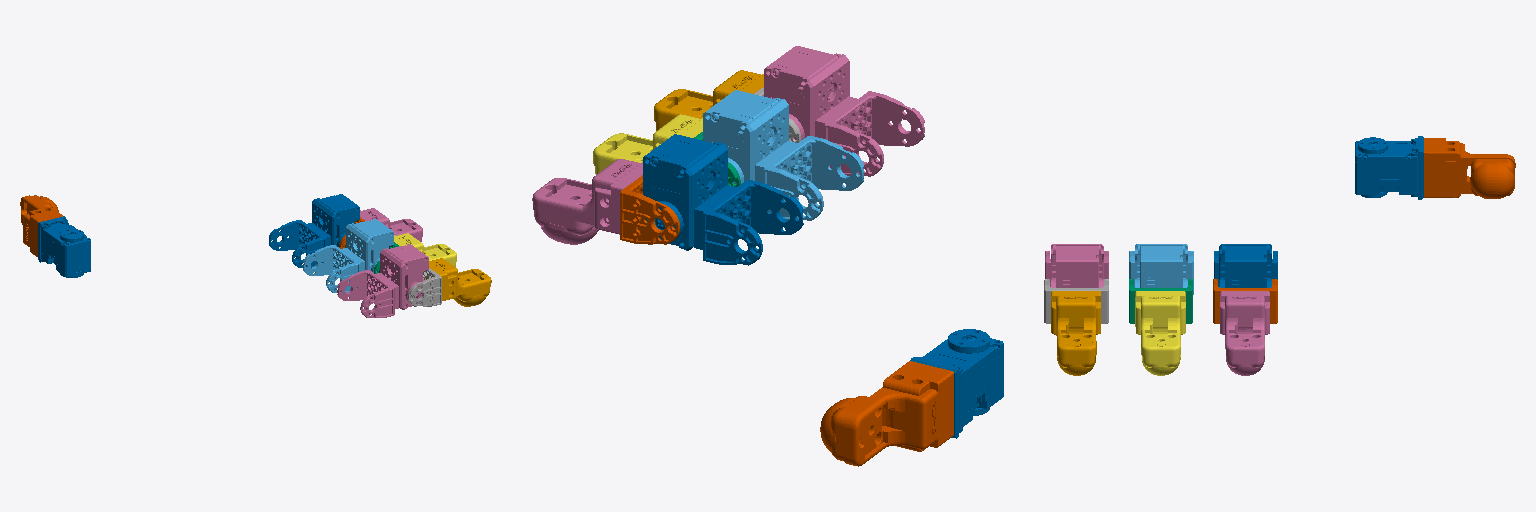
--- Render facts (derived) ---
3 views of the same robot in one strip: view 1: azimuth 30°, elevation 25°; view 2: azimuth 150°, elevation 25°; view 3: azimuth 270°, elevation 25° (orthographic).
Model leap_right with 26 links and 25 joints (16 revolute, 9 fixed), rooted at base, posed all joints at 0.
Links seen in each view (by area): view 1: dip_3, dip_2, dip, thumb_tip_base, fingertip_rf, thumb_fingertip, tip_base_3, fingertip_if, fingertip_mf; view 2: dip, dip_3, dip_2, thumb_fingertip, fingertip_if, thumb_tip_base, tip_base, fingertip_rf, fingertip_mf; view 3: thumb_fingertip, thumb_tip_base, fingertip_mf, fingertip_if, fingertip_rf, dip_2, dip, dip_3, tip_base, tip_base_3, tip_base_2.
Link boxes in pixels (box(x1,y1,x2,y2)): dip_3: box(337, 244, 428, 317); dip_2: box(303, 219, 393, 292); dip: box(269, 194, 359, 267); thumb_tip_base: box(38, 216, 90, 277); fingertip_rf: box(426, 258, 491, 306); thumb_fingertip: box(20, 195, 62, 256); tip_base_3: box(408, 268, 441, 306); fingertip_if: box(360, 208, 422, 241); fingertip_mf: box(394, 233, 456, 266); dip: box(643, 134, 803, 265); dip_3: box(764, 46, 924, 176); dip_2: box(703, 90, 863, 220); thumb_fingertip: box(820, 361, 953, 466); fingertip_if: box(532, 159, 642, 244); thumb_tip_base: box(910, 329, 1003, 438); tip_base: box(620, 175, 679, 244); fingertip_rf: box(654, 70, 763, 130); fingertip_mf: box(593, 114, 702, 174); thumb_fingertip: box(1424, 138, 1515, 198); thumb_tip_base: box(1355, 136, 1423, 199); fingertip_mf: box(1135, 291, 1185, 375); fingertip_if: box(1220, 291, 1269, 375); fingertip_rf: box(1051, 291, 1100, 375); dip_2: box(1129, 244, 1193, 294); dip: box(1214, 244, 1277, 287); dip_3: box(1045, 244, 1108, 287); tip_base: box(1213, 279, 1277, 323); tip_base_3: box(1044, 279, 1108, 323); tip_base_2: box(1129, 279, 1192, 323).
Size in the robot's own frame: 0.2348 by 0.2535 by 0.0489 metres.
Meshes: 10 distinct files referenced, 11 mesh visuals loaded (2 Collada DAE, 3 OBJ); not drawn: 10 (reference not matched to a file when rendering).

URDF robot description (leap_right):
<?xml version="1.0" encoding="utf-8"?>
<robot name="leap_right">
  <link name="base"/>
  <joint name="base_joint" type="fixed">
    <parent link="base"/>
    <child link="palm_lower"/>
    <origin xyz="0.058 0.034 -0.048" rpy="0 0 0"/>
  </joint>

  <link name="palm_lower">
    <visual>
      <origin xyz="-0.0200 0.02575 -0.0347" rpy="0 0 0"/>
      <geometry>
        <!-- <mesh filename="meshes/palm_lower.obj"/> -->
        <mesh filename="meshes/palm_pack.obj"/>
      </geometry>
    </visual>
    <collision>     <!-- palm_lower -->
      <origin xyz="-0.009 0.008 -0.011" rpy="0 0 0"/>
      <geometry>
        <box size="0.022 0.026 0.034"/>
      </geometry>
    </collision>
    <collision>
      <origin xyz="-0.009 -0.037 -0.011" rpy="0 0 0"/>
      <geometry>
        <box size="0.022 0.026 0.034"/>
      </geometry>
    </collision>
    <collision>
      <origin xyz="-0.009 -0.082 -0.011" rpy="0 0 0"/>
      <geometry>
        <box size="0.022 0.026 0.034"/>
      </geometry>
    </collision>
    <collision>
      <origin xyz="-0.066 -0.078 0.0065" rpy="0 0 -0.2967"/>
      <geometry>
        <box size="0.058 0.02 0.082"/>
      </geometry>
    </collision>
    <collision>
      <origin xyz="-0.03 -0.035 0.015" rpy="0 0 0"/>
      <geometry>
        <box size="0.02 0.12 0.066"/>
      </geometry>
    </collision>
    <collision>
      <origin xyz="-0.032 -0.035 -0.024" rpy="0 0.785 0"/>
      <geometry>
        <box size="0.01 0.12 0.02"/>
      </geometry>
    </collision>
    <collision>
      <origin xyz="-0.048 -0.033 0.0065" rpy="0 0 0"/>
      <geometry>
        <box size="0.024 0.116 0.082"/>
      </geometry>
    </collision>
    <collision>
      <origin xyz="-0.078 -0.053 0.0065" rpy="0 0 0"/>
      <geometry>
        <box size="0.044 0.052 0.082"/>
      </geometry>
    </collision>
    <collision>
      <origin xyz="-0.098 -0.009 0.013" rpy="0 0 0"/>
      <geometry>
        <box size="0.004 0.036 0.070"/>
      </geometry>
    </collision>
    <collision>
      <origin xyz="-0.078 -0.003 0.028" rpy="0 0 0"/>
      <geometry>
        <box size="0.044 0.056 0.040"/>
      </geometry>
    </collision>
    <inertial>
      <origin xyz="0 0 0" rpy="0 0 0"/>
      <mass value="0.237"/>
      <inertia ixx="0.000354094" ixy="-0.000001193" ixz="-0.000002445" iyy="0.000260915" iyz="-0.000002905" izz="0.000529257"/>
    </inertial>
  </link>
  <link name="mcp_joint">
    <visual>
      <origin xyz="0.0084 0.0077 0.01465" rpy="0 0 0"/>
      <geometry>
        <mesh filename="meshes/mcp_joint.obj"/>
      </geometry>
    </visual>
    <collision>      <!-- mcp_joint -->
      <origin xyz="0 0.018 0.0147" rpy="0 0 0"/>
      <geometry>
        <box size="0.02 0.006 0.034"/>
      </geometry>
    </collision>
    <collision>
      <origin xyz="-0.027 0.042 0.015" rpy="0 0 0"/>
      <geometry>
        <box size="0.028 0.04 0.02"/>
      </geometry>
    </collision>
    <collision>
      <origin xyz="-0.0262 0.02 0.0146" rpy="0 0 0"/>
      <geometry>
        <box size="0.034 0.006 0.02"/>
      </geometry>
    </collision>
    <collision>
      <origin xyz="-0.0295 0.035 0.029" rpy="0 0 0"/>
      <geometry>
        <box size="0.02 0.024 0.008"/>
      </geometry>
    </collision>
    <collision>
      <origin xyz="0 0.005 0.03" rpy="0 0 0"/>
      <geometry>
        <box size="0.014 0.02 0.004"/>
      </geometry>
    </collision>
    <collision>
      <origin xyz="0 0.005 -0.001" rpy="0 0 0"/>
      <geometry>
        <box size="0.014 0.02 0.004"/>
      </geometry>
    </collision>
    <inertial>
      <origin xyz="0 0 0" rpy="0 0 0"/>
      <mass value="0.044"/>
      <inertia ixx="0.000011499" ixy="0.000003049" ixz="0.000000121" iyy="0.000007796" iyz="0.000000112" izz="0.000014759"/>
    </inertial>
  </link>
  <link name="pip">
    <visual>
      <origin xyz="0.0096 0.0002 0.0007" rpy="-1.57079 -1.57079 0"/>
      <geometry>
        <mesh filename="meshes/pip.obj"/>
      </geometry>
    </visual>
    <collision>     <!-- pip -->
      <origin xyz="0.0075 -0.0002 -0.011" rpy="0 0 0"/>
      <geometry>
        <box size="0.034 0.026 0.022"/>
      </geometry>
    </collision>
    <inertial>
      <origin xyz="0 0 0" rpy="0 0 0"/>
      <mass value="0.032"/>
      <inertia ixx="0.000004798" ixy="0.000000012" ixz="0.000000004" iyy="0.000002862" iyz="0.000000011" izz="0.000004234"/>
    </inertial>
  </link>
  <link name="dip">
    <visual>
      <origin xyz="0.0211 -0.0084 0.0097" rpy="-3.1415926 0 0"/>
      <geometry>
        <mesh filename="meshes/dip.obj"/>
      </geometry>
    </visual>
    <collision>     <!-- dip -->
      <origin xyz="0 -0.02 0.015" rpy="0 0 0"/>
      <geometry>
        <box size="0.016 0.006 0.026"/>
      </geometry>
    </collision>
    <collision>
      <origin xyz="0 -0.016 0.015" rpy="0 0 0"/>
      <geometry>
        <box size="0.02 0.004 0.034"/>
      </geometry>
    </collision>
    <collision>
      <origin xyz="0 -0.0045 0.03" rpy="0 0 0"/>
      <geometry>
        <box size="0.014 0.02 0.004"/>
      </geometry>
    </collision>
    <collision>
      <origin xyz="0 -0.0045 0" rpy="0 0 0"/>
      <geometry>
        <box size="0.014 0.02 0.004"/>
      </geometry>
    </collision>
    <collision>
      <origin xyz="0.0075 -0.035 0.015" rpy="0 0 0"/>
      <geometry>
        <box size="0.034 0.022 0.026"/>
      </geometry>
    </collision>
    <inertial>
      <origin xyz="0 0 0" rpy="0 0 0"/>
      <mass value="0.037"/>
      <inertia ixx="0.000005542" ixy="-0.000000607" ixz="-0.000000017" iyy="0.000005727" iyz="-0.000000023" izz="0.000006682"/>
    </inertial>
  </link>
  <link name="tip_base">
    <visual>
        <origin xyz="0 -0.014 0.014499" rpy="3.14159 0 0 " />
        <geometry>
            <mesh filename="./meshes/tip_base.obj"/>
        </geometry>
    </visual>
    <collision> 
      <origin xyz="0 -0.017 0.015" rpy="0 0 0"/>
      <geometry>
        <box size="0.02 0.006 0.03"/>
      </geometry>
    </collision>
    <collision>
      <origin xyz="0 -0.006 0.03" rpy="0 0 0"/>
      <geometry>
        <box size="0.014 0.022 0.004"/>
      </geometry>
    </collision>
    <collision>
      <origin xyz="0 -0.006 -0.001" rpy="0 0 0"/>
      <geometry>
        <box size="0.014 0.022 0.004"/>
      </geometry>
    </collision>
    <inertial>
        <origin xyz="0 0 0" rpy="0 0 0"/>
        <mass value="0.008" />
        <inertia ixx="0.000003368" ixy="0.000000115" ixz="0" iyy="0.000001556" iyz="0" izz="0.000002863" />
    </inertial>
  </link>
  <link name="fingertip_if">
      <visual>
          <origin xyz="0 0 0" rpy="3.14159 0 -1.57080" />
          <geometry>
              <mesh filename="./meshes/DotTip.dae"/>
          </geometry>
      </visual>
      <collision>
          <origin xyz="0 0 0" rpy="3.14159 0 -1.57080" />
          <geometry>
              <mesh filename="./meshes/DotTip.dae"/>
          </geometry>
      </collision>
      <inertial>
          <origin xyz="0 0 0" rpy="0 0 0"/>
          <mass value="0.016" />
          <inertia ixx="0.000003368" ixy="0.000000115" ixz="0" iyy="0.000001556" iyz="0" izz="0.000002863" />
      </inertial>
  </link>

  <joint name="j00" type="revolute">
    <origin xyz="-0.0122 0.03810 0.01450" rpy="-1.57079 0 1.57079"/>
    <parent link="mcp_joint"/>
    <child link="pip"/>
    <axis xyz="0 0 -1"/>
    <limit effort="0.95" velocity="8.48" lower="-1.047" upper="1.047"/>
    <joint_properties friction="0.0"/>
  </joint>
  <joint name="j01" type="revolute">
    <origin xyz="-0.0070 0.0230 -0.0187" rpy="1.57079 1.57079 0"/>
    <parent link="palm_lower"/>
    <child link="mcp_joint"/>
    <axis xyz="0 0 -1"/>
    <limit effort="0.95" velocity="8.48" lower="-0.314" upper="2.23"/>
    <joint_properties friction="0.0"/>
  </joint>
  <joint name="j02" type="revolute">
    <origin xyz="0.015 0.0143 -0.013" rpy="1.57079 -1.57079 0"/>
    <parent link="pip"/>
    <child link="dip"/>
    <axis xyz="0 0 -1"/>
    <limit effort="0.95" velocity="8.48" lower="-0.506" upper="1.885"/>
    <joint_properties friction="0.0"/>
  </joint>
  <joint name="j03" type="revolute">
    <origin xyz="0 -0.0361 0.0002" rpy="0 0 0"/>
    <parent link="dip"/>
    <child link="tip_base"/>
    <axis xyz="0 0 -1"/>
    <limit effort="0.95" velocity="8.48" lower="-0.366" upper="2.042"/>
    <joint_properties friction="0.0"/>
  </joint>
  <joint name="if_tip" type="fixed" dont_collapse="true">
    <origin xyz="-0.010 -0.048 0.014499" rpy="0 0 0 " />
    <parent link="tip_base" />
    <child link="fingertip_if" />
  </joint>


  <link name="mcp_joint_2">
    <visual>
      <origin xyz="0.0084 0.0077 0.01465" rpy="0 0 0"/>
      <geometry>
        <mesh filename="meshes/mcp_joint.obj"/>
      </geometry>
    </visual>
    <collision>      <!-- mcp_joint -->
      <origin xyz="0 0.018 0.0147" rpy="0 0 0"/>
      <geometry>
        <box size="0.02 0.006 0.034"/>
      </geometry>
    </collision>
    <collision>
      <origin xyz="-0.027 0.042 0.015" rpy="0 0 0"/>
      <geometry>
        <box size="0.028 0.04 0.02"/>
      </geometry>
    </collision>
    <collision>
      <origin xyz="-0.0262 0.02 0.0146" rpy="0 0 0"/>
      <geometry>
        <box size="0.034 0.006 0.02"/>
      </geometry>
    </collision>
    <collision>
      <origin xyz="-0.0295 0.035 0.029" rpy="0 0 0"/>
      <geometry>
        <box size="0.02 0.024 0.008"/>
      </geometry>
    </collision>
    <collision>
      <origin xyz="0 0.005 0.03" rpy="0 0 0"/>
      <geometry>
        <box size="0.014 0.02 0.004"/>
      </geometry>
    </collision>
    <collision>
      <origin xyz="0 0.005 -0.001" rpy="0 0 0"/>
      <geometry>
        <box size="0.014 0.02 0.004"/>
      </geometry>
    </collision>
    <inertial>
      <origin xyz="0 0 0" rpy="0 0 0"/>
      <mass value="0.044"/>
      <inertia ixx="0.000011499" ixy="0.000003049" ixz="0.000000121" iyy="0.000007796" iyz="0.000000112" izz="0.000014759"/>
    </inertial>
  </link>
  <link name="pip_2">
    <visual>
      <origin xyz="0.0096 0.0003 0.0007" rpy="-1.57079 -1.57079 0"/>
      <geometry>
        <mesh filename="meshes/pip.obj"/>
      </geometry>
    </visual>
    <collision>     <!-- pip -->
      <origin xyz="0.0075 -0.0002 -0.011" rpy="0 0 0"/>
      <geometry>
        <box size="0.034 0.026 0.022"/>
      </geometry>
    </collision>
    <inertial>
      <origin xyz="0 0 0" rpy="0 0 0"/>
      <mass value="0.032"/>
      <inertia ixx="0.000004798" ixy="0.000000012" ixz="0.000000004" iyy="0.000002862" iyz="0.000000011" izz="0.000004234"/>
    </inertial>
  </link>
  <link name="dip_2">
    <visual>
      <origin xyz="0.0211 -0.0084 0.0097" rpy="-3.14159 0 0"/>
      <geometry>
        <mesh filename="meshes/dip.obj"/>
      </geometry>
    </visual>
    <collision>     <!-- dip -->
      <origin xyz="0 -0.02 0.015" rpy="0 0 0"/>
      <geometry>
        <box size="0.016 0.006 0.026"/>
      </geometry>
    </collision>
    <collision>
      <origin xyz="0 -0.016 0.015" rpy="0 0 0"/>
      <geometry>
        <box size="0.02 0.004 0.034"/>
      </geometry>
    </collision>
    <collision>
      <origin xyz="0 -0.0045 0.03" rpy="0 0 0"/>
      <geometry>
        <box size="0.014 0.02 0.004"/>
      </geometry>
    </collision>
    <collision>
      <origin xyz="0 -0.0045 0" rpy="0 0 0"/>
      <geometry>
        <box size="0.014 0.02 0.004"/>
      </geometry>
    </collision>
    <collision>
      <origin xyz="0.0075 -0.035 0.015" rpy="0 0 0"/>
      <geometry>
        <box size="0.034 0.022 0.026"/>
      </geometry>
    </collision>
    <inertial>
      <origin xyz="0 0 0" rpy="0 0 0"/>
      <mass value="0.037"/>
      <inertia ixx="0.000005542" ixy="-0.000000607" ixz="-0.000000017" iyy="0.000005727" iyz="-0.000000023" izz="0.000006682"/>
    </inertial>
  </link>

  <link name="tip_base_2">
    <visual>
        <origin xyz="0 -0.014 0.014499" rpy="3.14159 0 0 " />
        <geometry>
            <mesh filename="./meshes/tip_base.obj"/>
        </geometry>
    </visual>
    <collision> 
      <origin xyz="0 -0.017 0.015" rpy="0 0 0"/>
      <geometry>
        <box size="0.02 0.006 0.03"/>
      </geometry>
    </collision>
    <collision>
      <origin xyz="0 -0.006 0.03" rpy="0 0 0"/>
      <geometry>
        <box size="0.014 0.022 0.004"/>
      </geometry>
    </collision>
    <collision>
      <origin xyz="0 -0.006 -0.001" rpy="0 0 0"/>
      <geometry>
        <box size="0.014 0.022 0.004"/>
      </geometry>
    </collision>
    <inertial>
        <origin xyz="0 0 0" rpy="0 0 0"/>
        <mass value="0.008" />
        <inertia ixx="0.000003368" ixy="0.000000115" ixz="0" iyy="0.000001556" iyz="0" izz="0.000002863" />
    </inertial>
  </link>
  <link name="fingertip_mf">
      <visual>
          <origin xyz="0 0 0" rpy="3.14159 0 -1.57080" />
          <geometry>
              <mesh filename="./meshes/DotTip.dae"/>
          </geometry>
      </visual>
      <collision>
          <origin xyz="0 0 0" rpy="3.14159 0 -1.57080" />
          <geometry>
              <mesh filename="./meshes/DotTip.dae"/>
          </geometry>
      </collision>
      <inertial>
          <origin xyz="0 0 0" rpy="0 0 0"/>
          <mass value="0.016" />
          <inertia ixx="0.000003368" ixy="0.000000115" ixz="0" iyy="0.000001556" iyz="0" izz="0.000002863" />
      </inertial>
  </link>

  <joint name="j04" type="revolute">
    <origin xyz="-0.0122 0.0381 0.0145" rpy="-1.57079 0 1.57079"/>
    <parent link="mcp_joint_2"/>
    <child link="pip_2"/>
    <axis xyz="0 0 -1"/>
    <limit effort="0.95" velocity="8.48" lower="-1.047" upper="1.047"/>
    <joint_properties friction="0.0"/>
  </joint>
  <joint name="j05" type="revolute">
    <origin xyz="-0.0071 -0.0224 -0.0187" rpy="1.57079 1.57079 0"/>
    <parent link="palm_lower"/>
    <child link="mcp_joint_2"/>
    <axis xyz="0 0 -1"/>
    <limit effort="0.95" velocity="8.48" lower="-0.314" upper="2.23"/>
    <joint_properties friction="0.0"/>
  </joint>
  <joint name="j06" type="revolute">
    <origin xyz="0.015 0.0143 -0.013" rpy="1.57079 -1.57079 0"/>
    <parent link="pip_2"/>
    <child link="dip_2"/>
    <axis xyz="0 0 -1"/>
    <limit effort="0.95" velocity="8.48" lower="-0.506" upper="1.885"/>
    <joint_properties friction="0.0"/>
  </joint>
  <joint name="j07" type="revolute">
    <origin xyz="0 -0.0361 0.0002" rpy="0 0 0"/>
    <parent link="dip_2"/>
    <child link="tip_base_2"/>
    <axis xyz="0 0 -1"/>
    <limit effort="0.95" velocity="8.48" lower="-0.366" upper="2.042"/>
    <joint_properties friction="0.0"/>
  </joint>
  <joint name="mf_tip" type="fixed" dont_collapse="true">
    <origin xyz="-0.010 -0.048 0.014499" rpy="0 0 0 " />
    <parent link="tip_base_2" />
    <child link="fingertip_mf" />
  </joint>
  <link name="mcp_joint_3">
    <visual>
      <origin xyz="0.0084 0.0077 0.01465" rpy="0 0 0"/>
      <geometry>
        <mesh filename="meshes/mcp_joint.obj"/>
      </geometry>
    </visual>
    <collision>      <!-- mcp_joint -->
      <origin xyz="0 0.018 0.0147" rpy="0 0 0"/>
      <geometry>
        <box size="0.02 0.006 0.034"/>
      </geometry>
    </collision>
    <collision>
      <origin xyz="-0.027 0.042 0.015" rpy="0 0 0"/>
      <geometry>
        <box size="0.028 0.04 0.02"/>
      </geometry>
    </collision>
    <collision>
      <origin xyz="-0.0262 0.02 0.0146" rpy="0 0 0"/>
      <geometry>
        <box size="0.034 0.006 0.02"/>
      </geometry>
    </collision>
    <collision>
      <origin xyz="-0.0295 0.035 0.029" rpy="0 0 0"/>
      <geometry>
        <box size="0.02 0.024 0.008"/>
      </geometry>
    </collision>
    <collision>
      <origin xyz="0 0.005 0.03" rpy="0 0 0"/>
      <geometry>
        <box size="0.014 0.02 0.004"/>
      </geometry>
    </collision>
    <collision>
      <origin xyz="0 0.005 -0.001" rpy="0 0 0"/>
      <geometry>
        <box size="0.014 0.02 0.004"/>
      </geometry>
    </collision>
    <inertial>
      <origin xyz="0 0 0" rpy="0 0 0"/>
      <mass value="0.044"/>
      <inertia ixx="0.000011499" ixy="0.000003049" ixz="0.000000121" iyy="0.000007796" iyz="0.000000112" izz="0.000014759"/>
    </inertial>
  </link>
  <link name="pip_3">
    <visual>
      <origin xyz="0.0096 0.0003 0.0007" rpy="-1.57079 -1.57079 0"/>
      <geometry>
        <mesh filename="meshes/pip.obj"/>
      </geometry>
    </visual>
    <collision>     <!-- pip -->
      <origin xyz="0.0075 -0.0002 -0.011" rpy="0 0 0"/>
      <geometry>
        <box size="0.034 0.026 0.022"/>
      </geometry>
    </collision>
    <inertial>
      <origin xyz="0 0 0" rpy="0 0 0"/>
      <mass value="0.032"/>
      <inertia ixx="0.000004798" ixy="0.000000012" ixz="0.000000004" iyy="0.000002862" iyz="0.000000011" izz="0.000004234"/>
    </inertial>
  </link>
  <link name="dip_3">
    <visual>
      <origin xyz="0.0211 -0.0084 0.0097" rpy="-3.14159 0 0"/>
      <geometry>
        <mesh filename="meshes/dip.obj"/>
      </geometry>
    </visual>
    <collision>     <!-- dip -->
      <origin xyz="0 -0.02 0.015" rpy="0 0 0"/>
      <geometry>
        <box size="0.016 0.006 0.026"/>
      </geometry>
    </collision>
    <collision>
      <origin xyz="0 -0.016 0.015" rpy="0 0 0"/>
      <geometry>
        <box size="0.02 0.004 0.034"/>
      </geometry>
    </collision>
    <collision>
      <origin xyz="0 -0.0045 0.03" rpy="0 0 0"/>
      <geometry>
        <box size="0.014 0.02 0.004"/>
      </geometry>
    </collision>
    <collision>
      <origin xyz="0 -0.0045 0" rpy="0 0 0"/>
      <geometry>
        <box size="0.014 0.02 0.004"/>
      </geometry>
    </collision>
    <collision>
      <origin xyz="0.0075 -0.035 0.015" rpy="0 0 0"/>
      <geometry>
        <box size="0.034 0.022 0.026"/>
      </geometry>
    </collision>
    <inertial>
      <origin xyz="0 0 0" rpy="0 0 0"/>
      <mass value="0.037"/>
      <inertia ixx="0.000005542" ixy="-0.000000607" ixz="-0.000000017" iyy="0.000005727" iyz="-0.000000023" izz="0.000006682"/>
    </inertial>
  </link>
  <link name="tip_base_3">
    <visual>
        <origin xyz="0 -0.014 0.014499" rpy="3.14159 0 0 " />
        <geometry>
            <mesh filename="./meshes/tip_base.obj"/>
        </geometry>
    </visual>
    <collision> 
      <origin xyz="0 -0.017 0.015" rpy="0 0 0"/>
      <geometry>
        <box size="0.02 0.006 0.03"/>
      </geometry>
    </collision>
    <collision>
      <origin xyz="0 -0.006 0.03" rpy="0 0 0"/>
      <geometry>
        <box size="0.014 0.022 0.004"/>
      </geometry>
    </collision>
    <collision>
      <origin xyz="0 -0.006 -0.001" rpy="0 0 0"/>
      <geometry>
        <box size="0.014 0.022 0.004"/>
      </geometry>
    </collision>
    <inertial>
        <origin xyz="0 0 0" rpy="0 0 0"/>
        <mass value="0.008" />
        <inertia ixx="0.000003368" ixy="0.000000115" ixz="0" iyy="0.000001556" iyz="0" izz="0.000002863" />
    </inertial>
  </link>
  <link name="fingertip_rf">
      <visual>
          <origin xyz="0 0 0" rpy="3.14159 0 -1.57080" />
          <geometry>
              <mesh filename="./meshes/DotTip.dae"/>
          </geometry>
      </visual>
      <collision>
          <origin xyz="0 0 0" rpy="3.14159 0 -1.57080" />
          <geometry>
              <mesh filename="./meshes/DotTip.dae"/>
          </geometry>
      </collision>
      <inertial>
          <origin xyz="0 0 0" rpy="0 0 0"/>
          <mass value="0.016" />
          <inertia ixx="0.000003368" ixy="0.000000115" ixz="0" iyy="0.000001556" iyz="0" izz="0.000002863" />
      </inertial>
  </link>
  <joint name="j08" type="revolute">
    <origin xyz="-0.0122 0.0381 0.0145" rpy="-1.57079 0 1.57079"/>
    <parent link="mcp_joint_3"/>
    <child link="pip_3"/>
    <axis xyz="0 0 -1"/>
    <limit effort="0.95" velocity="8.48" lower="-1.047" upper="1.047"/>
    <joint_properties friction="0.0"/>
  </joint>
  <joint name="j09" type="revolute">
    <origin xyz="-0.00709 -0.0678 -0.0187" rpy="1.57079 1.57079 0"/>
    <parent link="palm_lower"/>
    <child link="mcp_joint_3"/>
    <axis xyz="0 0 -1"/>
    <limit effort="0.95" velocity="8.48" lower="-0.314" upper="2.23"/>
    <joint_properties friction="0.0"/>
  </joint>
  <joint name="j10" type="revolute">
    <origin xyz="0.015 0.0143 -0.013" rpy="1.57079 -1.57079 0"/>
    <parent link="pip_3"/>
    <child link="dip_3"/>
    <axis xyz="0 0 -1"/>
    <limit effort="0.95" velocity="8.48" lower="-0.506" upper="1.885"/>
    <joint_properties friction="0.0"/>
  </joint>
  <joint name="j11" type="revolute">
    <origin xyz="0 -0.03609 0.0002" rpy="0 0 0"/>
    <parent link="dip_3"/>
    <child link="tip_base_3"/>
    <axis xyz="0 0 -1"/>
    <limit effort="0.95" velocity="8.48" lower="-0.366" upper="2.042"/>
    <joint_properties friction="0.0"/>
  </joint>
  <joint name="rf_tip" type="fixed" dont_collapse="true">
    <origin xyz="-0.010 -0.048 0.014499" rpy="0 0 0 " />
    <parent link="tip_base_3" />
    <child link="fingertip_rf" />
  </joint>


  <link name="thumb_temp_base">
    <visual>
      <origin xyz="-0.0053 0.0003 0.00078" rpy="-1.57079 -1.57079 0"/>
      <geometry>
        <mesh filename="meshes/pip.obj"/>
      </geometry>
    </visual>
    <collision>     <!-- pip -->
      <origin xyz="-0.0075 -0.0002 -0.011" rpy="0 0 0"/>
      <geometry>
        <box size="0.034 0.026 0.022"/>
      </geometry>
    </collision>
    <inertial>
      <origin xyz="0 0 0" rpy="0 0 0"/>
      <mass value="0.032"/>
      <inertia ixx="0.000004798" ixy="0.000000012" ixz="0.000000004" iyy="0.000002862" iyz="0.000000011" izz="0.000004234"/>
    </inertial>
  </link>
  <link name="thumb_pip">
    <visual>
      <origin xyz="0.01196 0 -0.0158" rpy="1.57079 0 0"/>
      <geometry>
        <mesh filename="meshes/thumb_pip.obj"/>
      </geometry>
    </visual>
    <collision>     <!-- thumb_pip -->
      <origin xyz="0 0 -0.0015" rpy="0 0 0"/>
      <geometry>
        <box size="0.018 0.033 0.004"/>
      </geometry>
    </collision>
    <collision>
      <origin xyz="0 -0.015 -0.013" rpy="0 0 0"/>
      <geometry>
        <box size="0.014 0.004 0.02"/>
      </geometry>
    </collision>
    <collision>
      <origin xyz="0 0.015 -0.013" rpy="0 0 0"/>
      <geometry>
        <box size="0.014 0.004 0.02"/>
      </geometry>
    </collision>
    <inertial>
      <origin xyz="0 0 0" rpy="0 0 0"/>
      <mass value="0.003"/>
      <inertia ixx="0.000000593" ixy="0" ixz="0" iyy="0.000000549" iyz="0" izz="0.000000224"/>
    </inertial>
  </link>
  <link name="thumb_dip">
    <visual>
      <origin xyz="0.0439 0.0579 -0.0086" rpy="0 0 0"/>
      <geometry>
        <mesh filename="meshes/thumb_dip.obj"/>
      </geometry>
    </visual>
    <collision>     <!-- thumb_dip -->
      <origin xyz="0 0.0105 -0.014" rpy="0 0 0"/>
      <geometry>
        <box size="0.02 0.04 0.024"/>
      </geometry>
    </collision>
    <collision>
      <origin xyz="0 0.031 -0.015" rpy="0 0 0"/>
      <geometry>
        <box size="0.02 0.004 0.032"/>
      </geometry>
    </collision>
    <collision>
      <origin xyz="0 0.042 0.001" rpy="0 0 0"/>
      <geometry>
        <box size="0.014 0.02 0.004"/>
      </geometry>
    </collision>
    <collision>
      <origin xyz="0 0.042 -0.029" rpy="0 0 0"/>
      <geometry>
        <box size="0.014 0.02 0.004"/>
      </geometry>
    </collision>
    <collision>
      <origin xyz="-0.0135 0.0175 -0.011656" rpy="0 0 0"/>
      <geometry>
        <box size="0.01 0.024 0.018"/>
      </geometry>
    </collision>
    <inertial>
      <origin xyz="0 0 0" rpy="0 0 0"/>
      <mass value="0.038"/>
      <inertia ixx="0.000008474" ixy="0.000000241" ixz="0.000000026" iyy="0.000003841" iyz="0.000000025" izz="0.000007679"/>
    </inertial>
  </link>

  <link name="thumb_tip_base">
    <visual>
      <origin xyz="0 0 -0.0065" rpy="0 0 0 " />
      <geometry>
          <mesh filename="./meshes/thumb_tip_base.obj"/>
      </geometry>
    </visual>
    <collision>   
      <origin xyz="0 -0.0085 -0.015" rpy="0 0 0"/>
      <geometry>
        <box size="0.02 0.036 0.024"/>
      </geometry>
    </collision>
    <collision>
      <origin xyz="0 -0.029 -0.014" rpy="0 0 0"/>
      <geometry>
        <box size="0.02 0.004 0.03"/>
      </geometry>
    </collision>
    <collision>
      <origin xyz="0.015 -0.0175 -0.0115" rpy="0 0 0"/>
      <geometry>
        <box size="0.008 0.024 0.018"/>
      </geometry>
    </collision>
    <inertial>
        <origin xyz="0 0 0" rpy="0 0 0"/>
        <mass value="0.008" />
        <inertia ixx="0.000003368" ixy="0.000000115" ixz="0" iyy="0.000001556" iyz="0" izz="0.000002863" />
    </inertial>
  </link>
  <link name="thumb_fingertip">
      <visual>
          <origin xyz="0 0 0 " rpy="3.14159 0 -1.57080" />
          <geometry>
              <mesh filename="./meshes/DotTip-thumb.dae"/>
          </geometry>
      </visual>
      <collision>
          <origin xyz="0 0 0 " rpy="3.14159 0 -1.57080" />
          <geometry>
              <mesh filename="./meshes/DotTip-thumb.dae"/>
          </geometry>
      </collision>
      <inertial>
          <origin xyz="0 0 0" rpy="0 0 0"/>
          <mass value="0.016" />
          <inertia ixx="0.000003368" ixy="0.000000115" ixz="0" iyy="0.000001556" iyz="0" izz="0.000002863" />
      </inertial>
  </link>
  <joint name="j12" type="revolute">
    <origin xyz="-0.0693 -0.0012 -0.0216" rpy="0 1.57079 0"/>
    <parent link="palm_lower"/>
    <child link="thumb_temp_base"/>
    <axis xyz="0 0 -1"/>
    <limit effort="0.95" velocity="8.48" lower="-0.349" upper="2.094"/>
    <joint_properties friction="0.0"/>
  </joint>
  <joint name="j13" type="revolute">
    <origin xyz="0 0.0143 -0.013" rpy="1.57079 -1.57079 0"/>
    <parent link="thumb_temp_base"/>
    <child link="thumb_pip"/>
    <axis xyz="0 0 -1"/>
    <limit effort="0.95" velocity="8.48" lower="-0.47" upper="2.443"/>
    <joint_properties friction="0.0"/>
  </joint>
  <joint name="j14" type="revolute">
    <origin xyz="0 0.0145 -0.017" rpy="-1.57079 0 0"/>
    <parent link="thumb_pip"/>
    <child link="thumb_dip"/>
    <axis xyz="0 0 -1"/>
    <limit effort="0.95" velocity="8.48" lower="-1.20" upper="1.90"/>
    <joint_properties friction="0.0"/>
  </joint>
  <joint name="j15" type="revolute">
    <origin xyz="0 0.0466 0.0002" rpy="0 0 3.14159"/>
    <parent link="thumb_dip"/>
    <child link="thumb_tip_base"/>
    <axis xyz="0 0 -1"/>
    <limit effort="0.95" velocity="8.48" lower="-1.34" upper="1.88"/>
    <joint_properties friction="0.0"/>
  </joint>
  <joint name="tf_tip" type="fixed" dont_collapse="true">
    <origin xyz="-0.0102  -0.0645 -0.0145" rpy="0 0 0 " />
    <parent link="thumb_tip_base" />
    <child link="thumb_fingertip" />
  </joint>

  <!--  virtual auxiliary link-->
    <link name="if_tip_center"/>
    <link name="mf_tip_center"/>
    <link name="rf_tip_center"/>
    <link name="tf_tip_center"/>

    <joint name="if_tip_center_joint" type="fixed" dont_collapse="true">
      <parent link="fingertip_if" />
      <child link="if_tip_center" />
      <origin xyz="0 0 -0.020" rpy="-1.570796 0 -1.570796" />
    </joint>
    <joint name="mf_tip_center_joint" type="fixed" dont_collapse="true">
      <parent link="fingertip_mf" />
      <child link="mf_tip_center" />
      <origin xyz="0 0 -0.020" rpy="-1.570796 0 -1.570796" />
    </joint>
    <joint name="rf_tip_center_joint" type="fixed" dont_collapse="true">
      <parent link="fingertip_rf" />
      <child link="rf_tip_center" />
      <origin xyz="0 0 -0.020" rpy="-1.570796 0 -1.570796" />
    </joint>
    <joint name="tf_tip_center_joint" type="fixed" dont_collapse="true"> 
      <parent link="thumb_fingertip" />
      <child link="tf_tip_center" />
      <origin xyz="0 0 -0.020" rpy="-1.570796 0 -1.570796" />
    </joint>

</robot>
